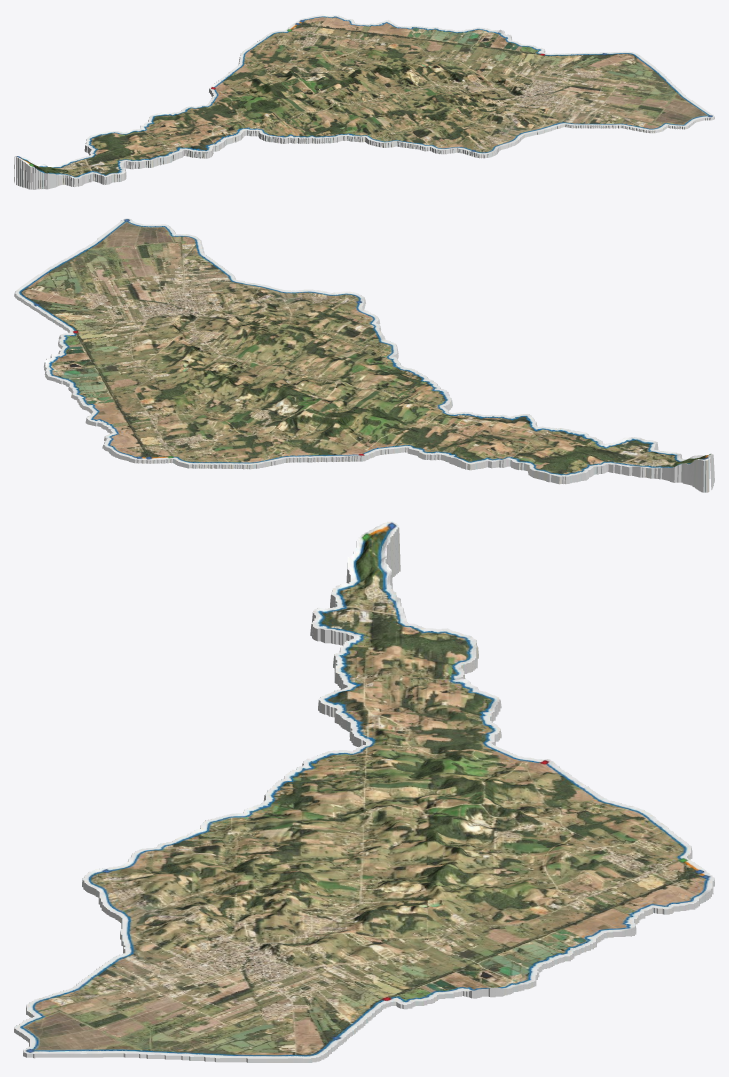
3 views of the same model, one above another, from view 1: azimuth 30°, elevation 25°; view 2: azimuth 150°, elevation 25°; view 3: azimuth 270°, elevation 25° (orthographic). The views are drawn at different scales.
Bounding box in the file's own units: 0.9995 × 0.0436 × 0.5975.
1 material, 1 textured.
